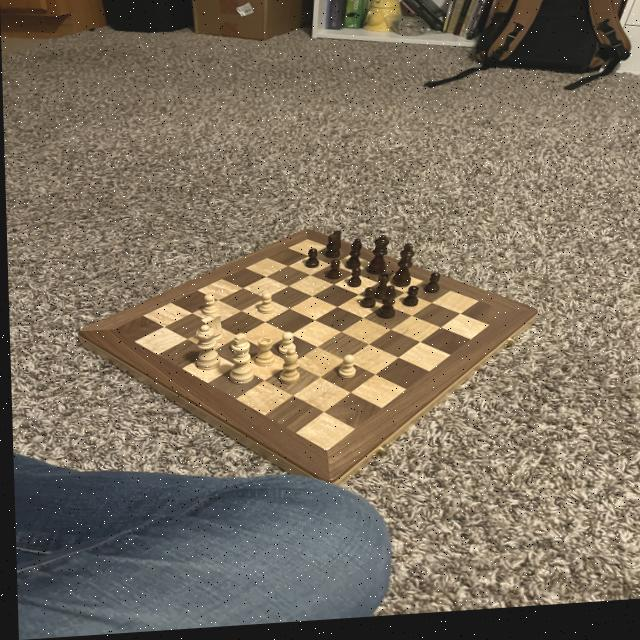bishop: (373, 290, 396, 328), (343, 241, 364, 275)
black-bishop: (388, 246, 418, 294)
black-king: (321, 232, 343, 265)
black-knight: (421, 277, 440, 300), (400, 290, 418, 313), (325, 261, 341, 286), (360, 290, 375, 315), (345, 272, 361, 295), (303, 251, 318, 273)
black-pawn: (363, 238, 392, 281)
black-queen: (369, 275, 391, 305)
black-rook: (275, 350, 301, 390)
white-bishop: (223, 334, 254, 391)
white-king: (197, 314, 224, 350)
white-knight: (334, 358, 355, 385), (197, 295, 218, 320), (255, 295, 274, 320), (275, 334, 293, 360)
white-pawn: (191, 325, 220, 375)
white-queen: (251, 339, 274, 372)
